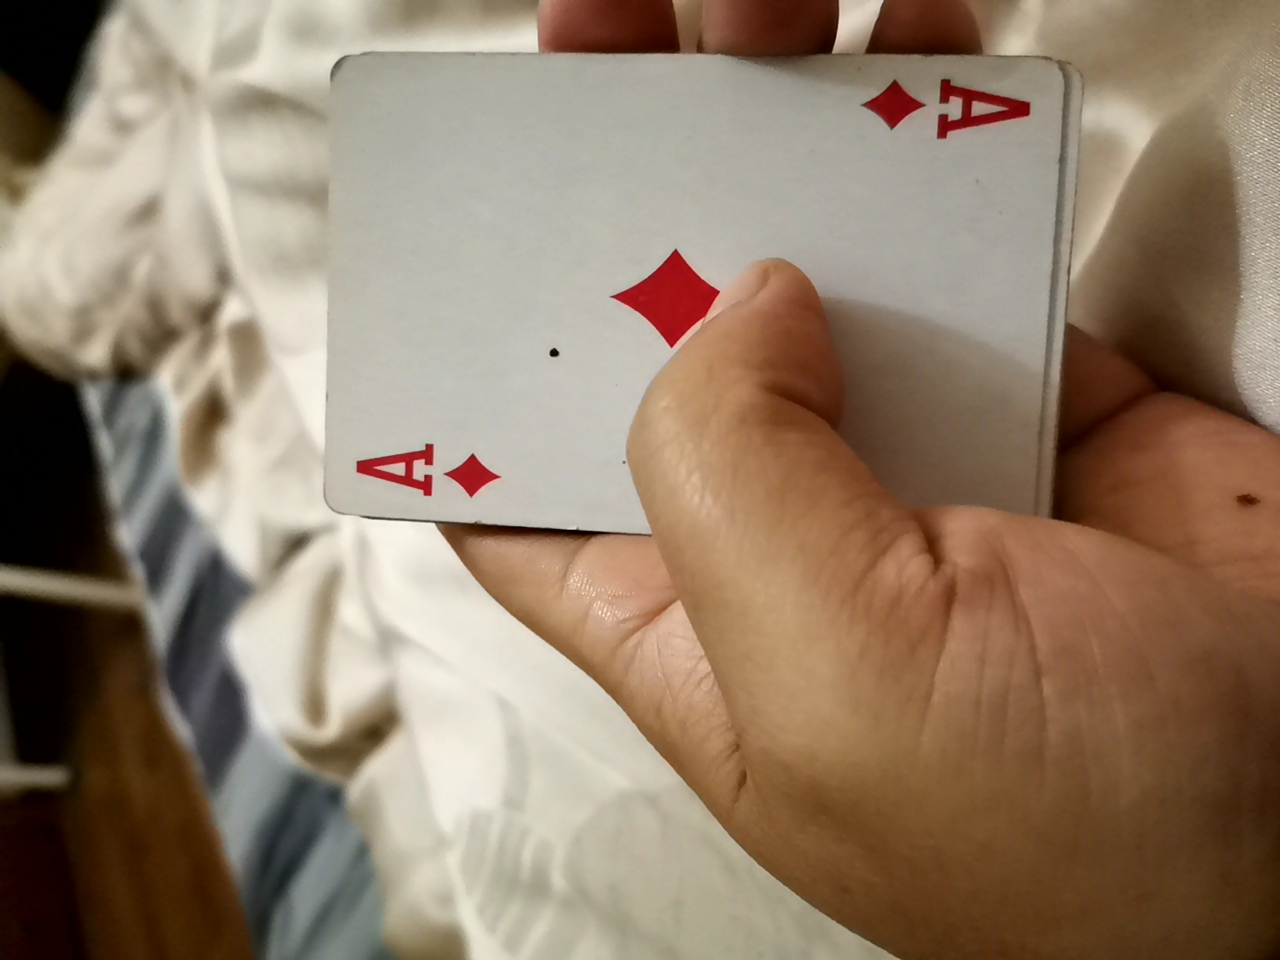fk a: (273, 62, 1143, 635)
